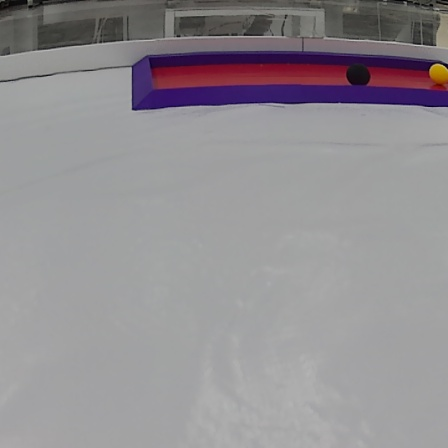black: (346, 61, 372, 91)
red_aim: (129, 50, 448, 110)
yellow: (427, 59, 448, 87)
